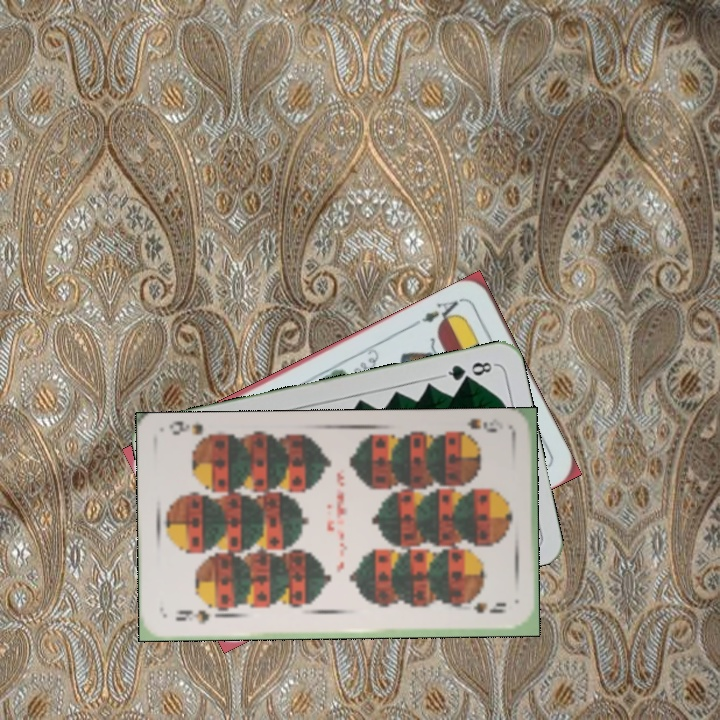EA: (410, 294, 465, 329)
G8: (439, 357, 498, 384)
S9: (451, 415, 499, 442), (171, 605, 223, 627)
